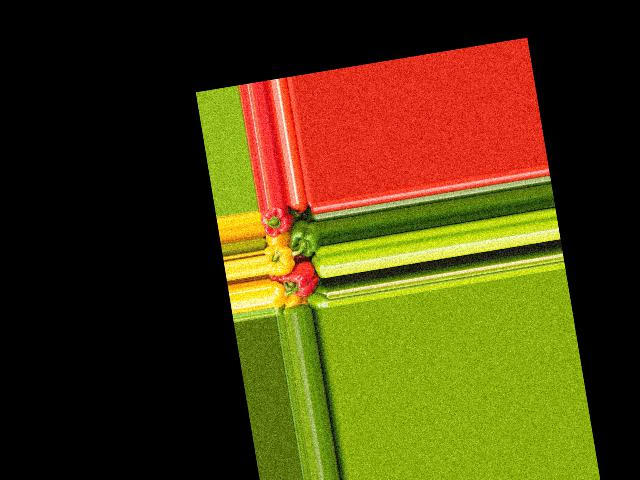bell_pepper: (259, 205, 296, 242)
